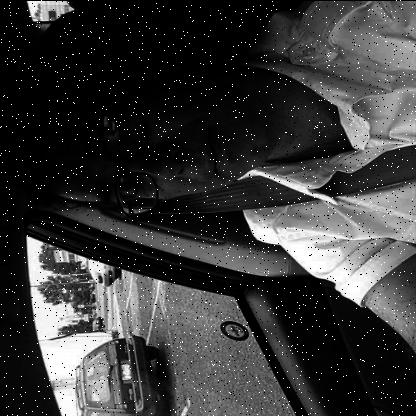seatbelt: (9, 44, 416, 218)
